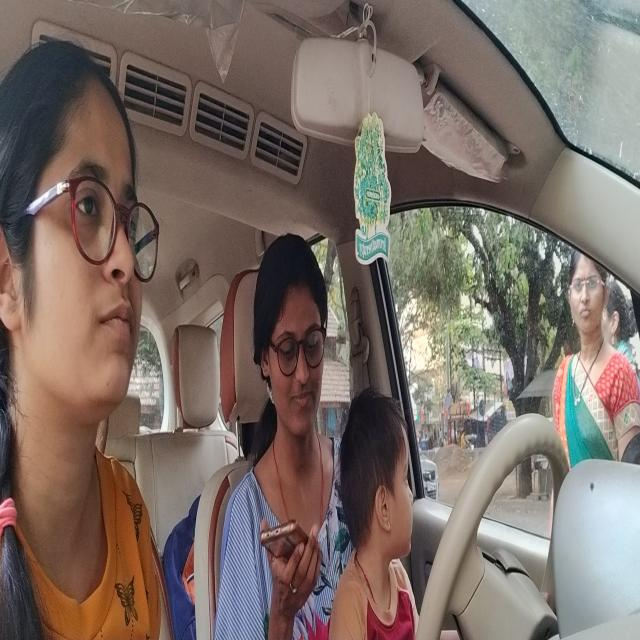child: (339, 379, 418, 567)
mobile: (257, 511, 320, 579)
person: (0, 41, 162, 436), (249, 226, 334, 442)
